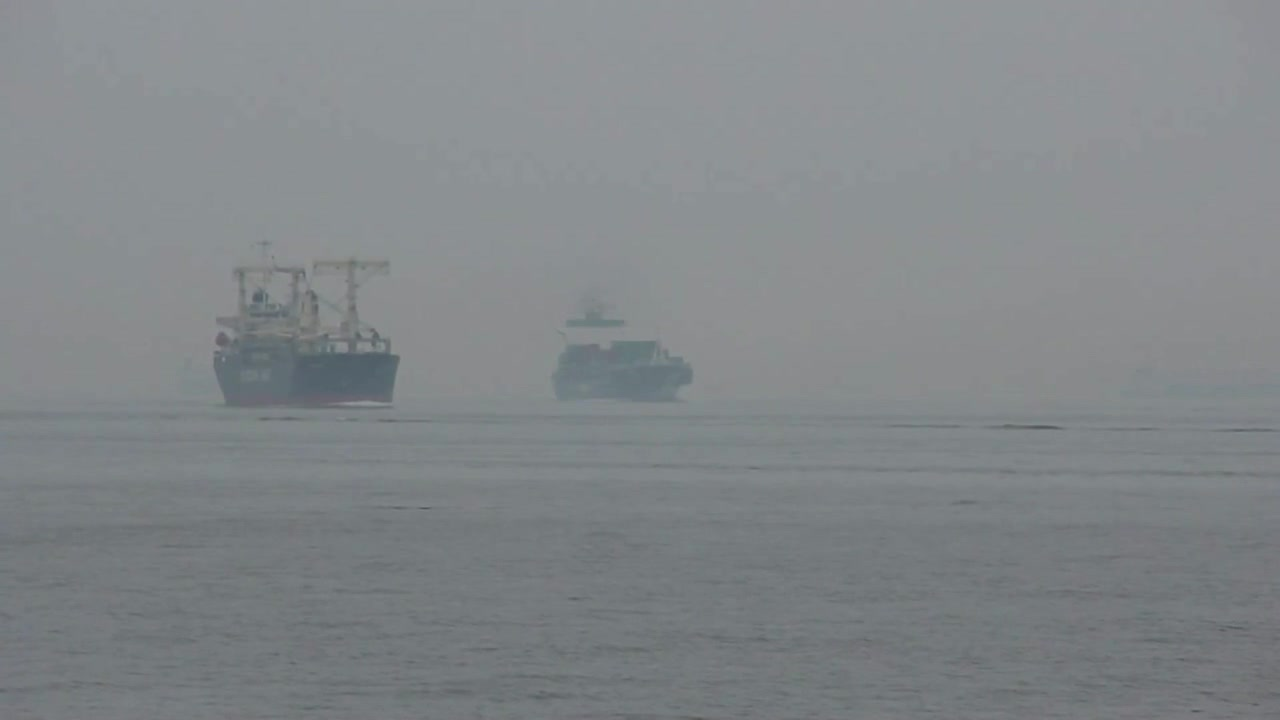boat: (210, 240, 404, 410)
